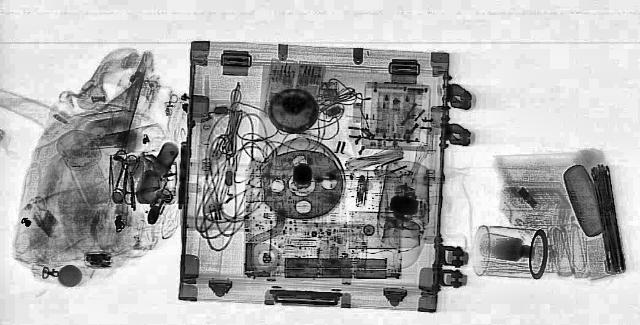Scissors: (104, 150, 138, 189), (111, 159, 137, 203)
